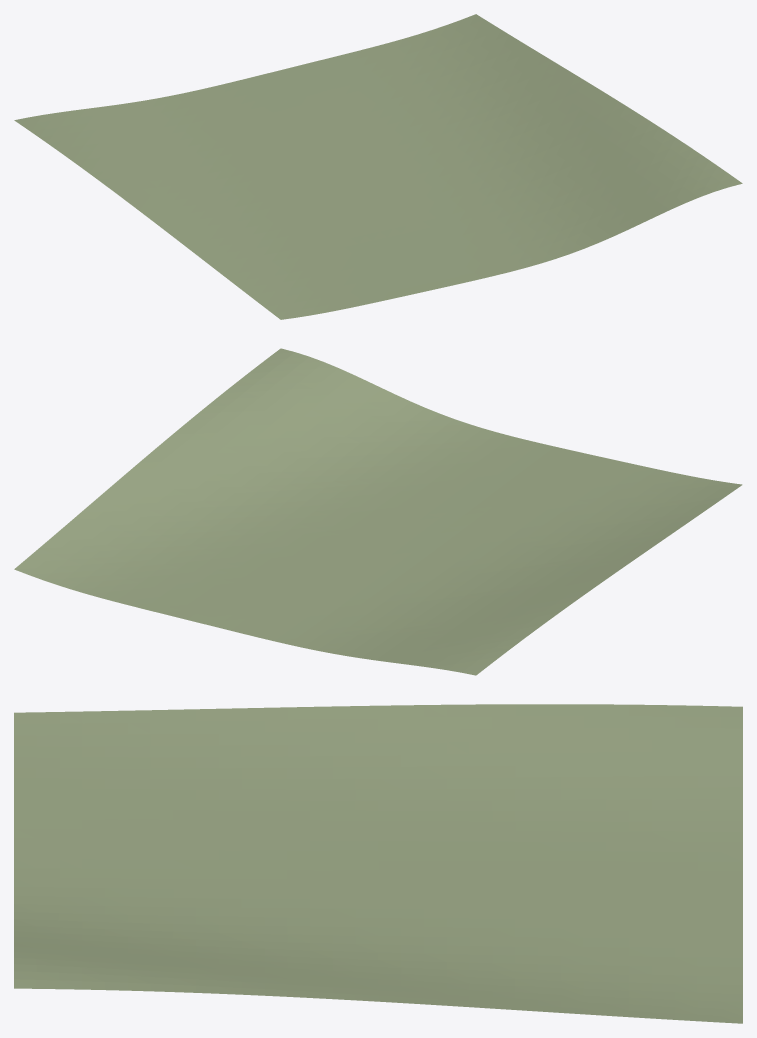
File: desert-3-3.glb
3 renders of one model, top to bottom at view 1: azimuth 30°, elevation 25°; view 2: azimuth 150°, elevation 25°; view 3: azimuth 270°, elevation 25°, orthographic. The views are drawn at different scales.
Visible parts, largest first — view 1: desert-3-3; view 2: desert-3-3; view 3: desert-3-3.
Part boxes in pixels (bbox=[...]): desert-3-3: bbox=[14, 14, 742, 319]; desert-3-3: bbox=[14, 348, 742, 675]; desert-3-3: bbox=[14, 704, 742, 1023].
Bounding box in the file's own units: 512 × 36.28 × 512.
